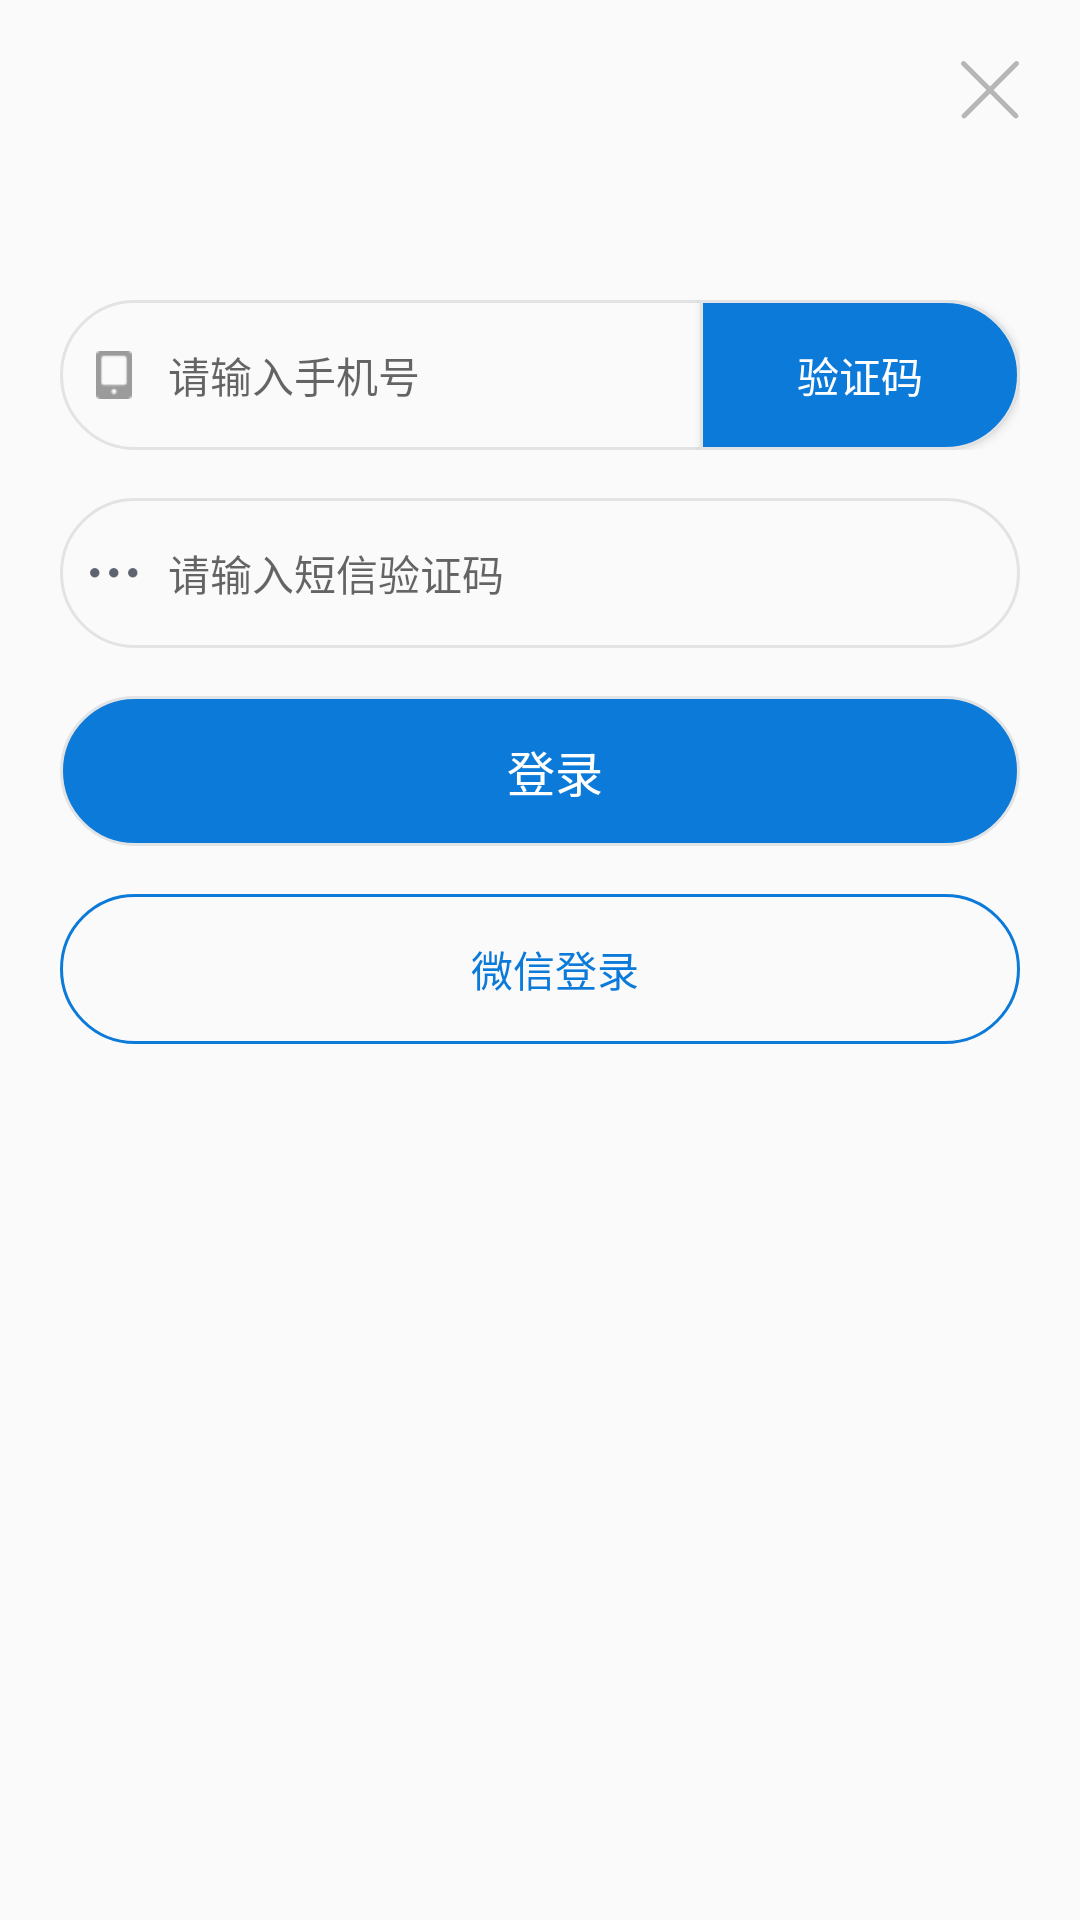

Icon click points for this 1080x1920 phone screenshot, format (x,y):
close: (990,89)
fast login lar mobile: (114,375)
